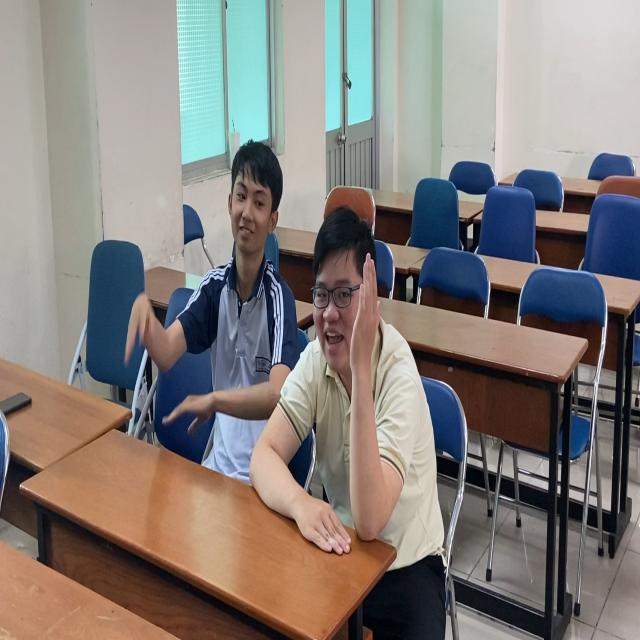raise_hand: (279, 207, 423, 549)
